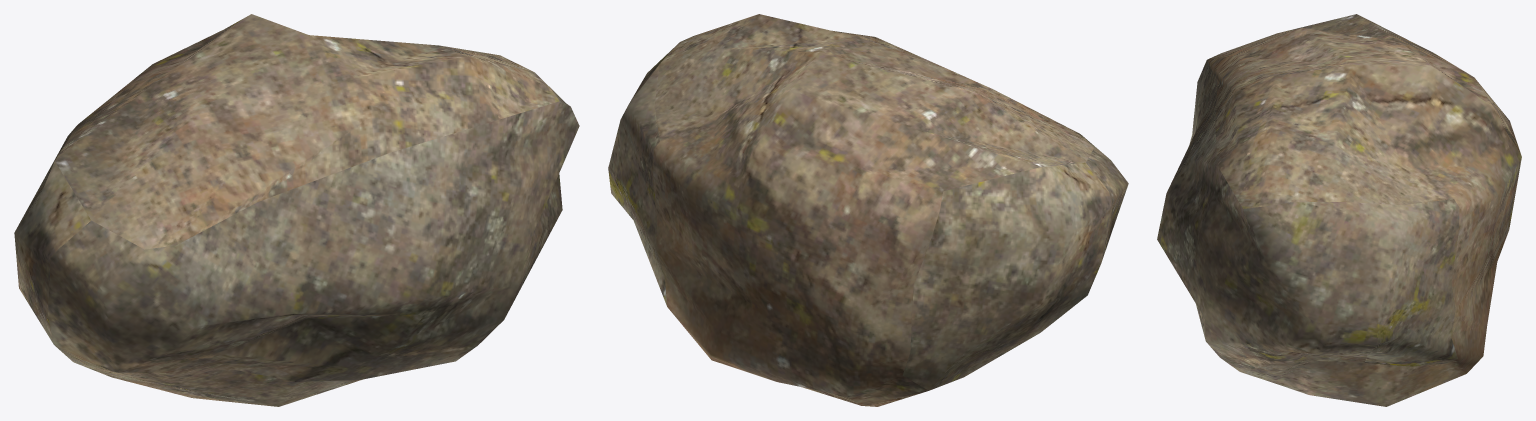
The model's file is DropRock.fbx.
3 views of the same model, side by side, from view 1: azimuth 30°, elevation 25°; view 2: azimuth 150°, elevation 25°; view 3: azimuth 270°, elevation 25° (orthographic). The views are drawn at different scales.
Visible parts, largest first — view 1: LV_Common_Rock_A_BaseRock03_SM_KIT; view 2: LV_Common_Rock_A_BaseRock03_SM_KIT; view 3: LV_Common_Rock_A_BaseRock03_SM_KIT.
Boxes of the visible parts, x1,y1,x2,y2 form: LV_Common_Rock_A_BaseRock03_SM_KIT: (14, 14, 579, 406); LV_Common_Rock_A_BaseRock03_SM_KIT: (608, 14, 1128, 406); LV_Common_Rock_A_BaseRock03_SM_KIT: (1157, 14, 1521, 406).
Bounding box in the file's own units: 0.2042 × 0.1349 × 0.1371.
